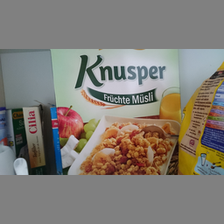cereal: (51, 48, 184, 176)
